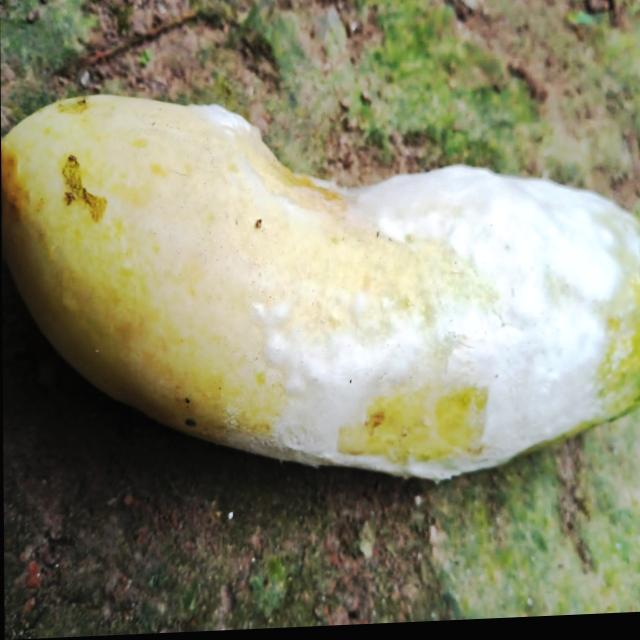Pythium-Fruit-Rot: (197, 83, 640, 494)
